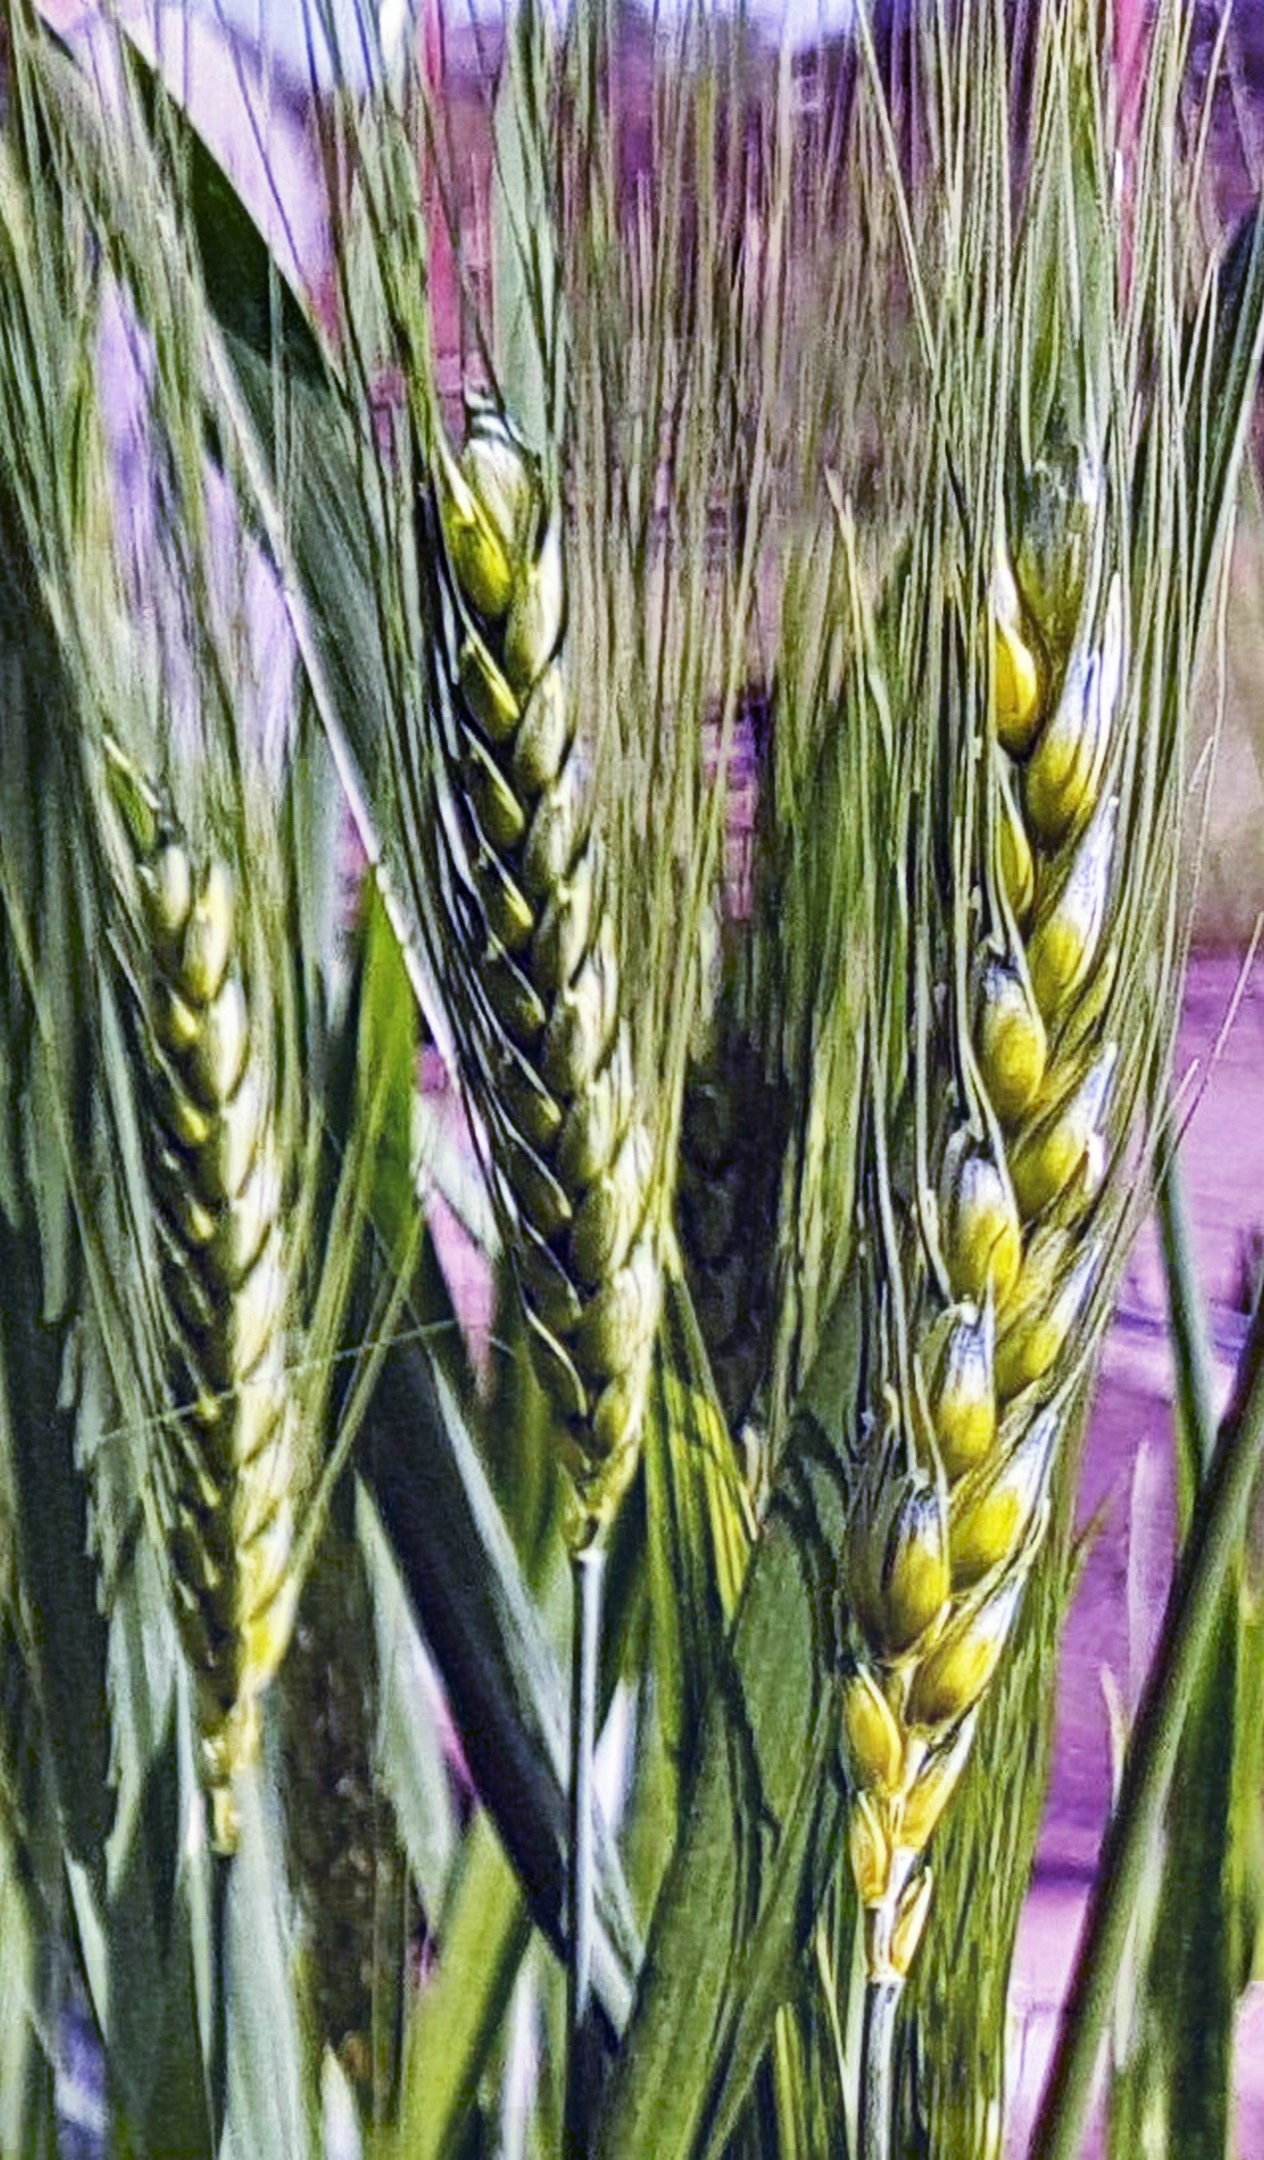Healthy Wheat: (415, 415, 689, 1489)
